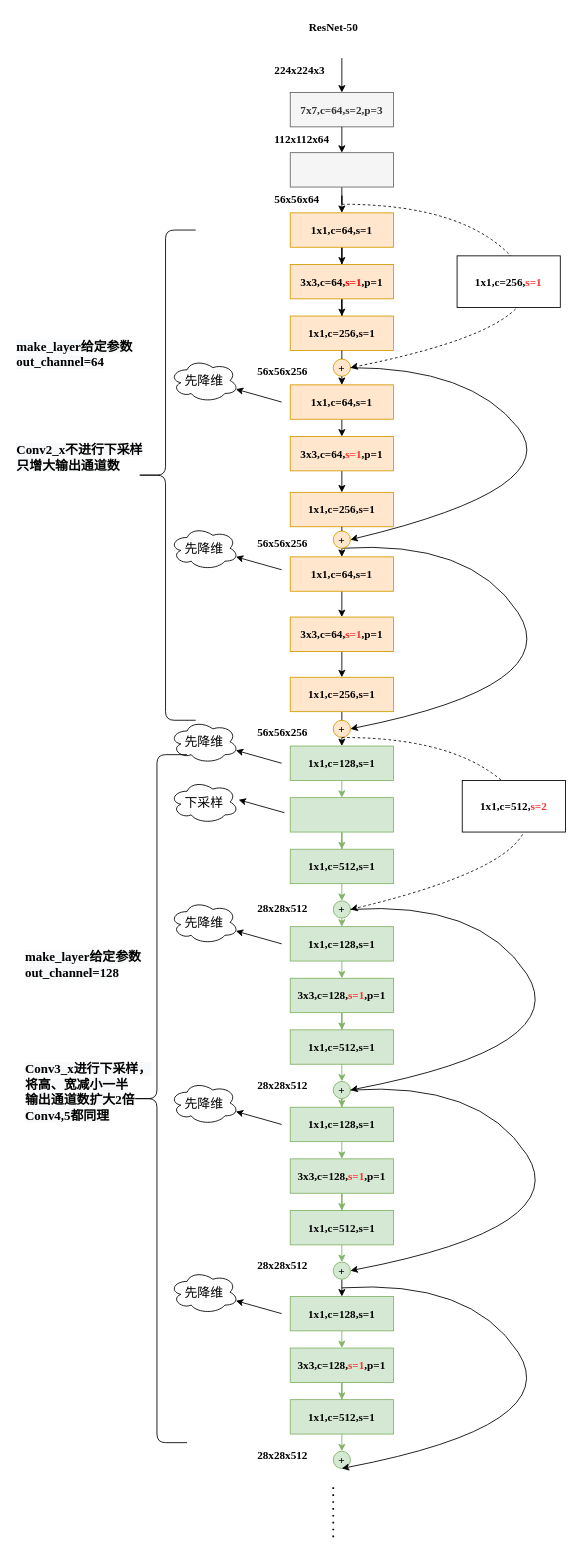
Some shapes in this 581 by 1553 pixel diagram are drawn without their labels. Each missing label, with the box of its shape:
3x3,c=128, s=2 ,p=1: (289, 797, 393, 832)
maxpool 3x3,s=2: (289, 152, 393, 187)
